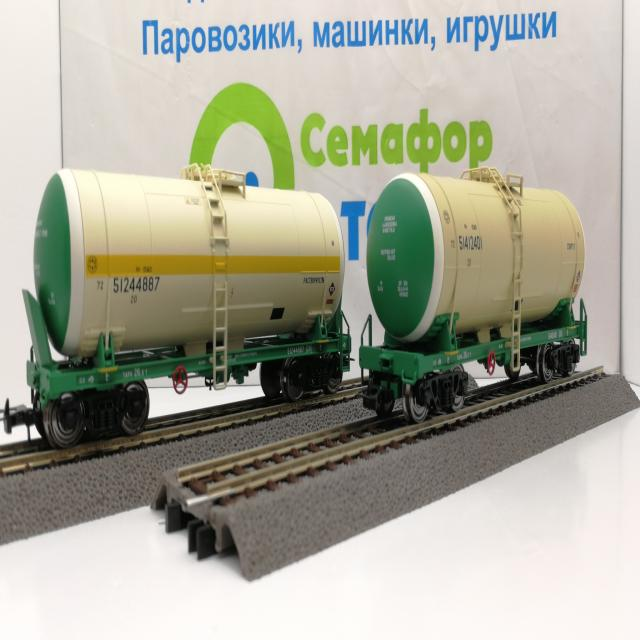Cart: (31, 359, 156, 457), (260, 342, 348, 412)
Coupling: (3, 386, 31, 441)
Tank car: (20, 158, 356, 388)
